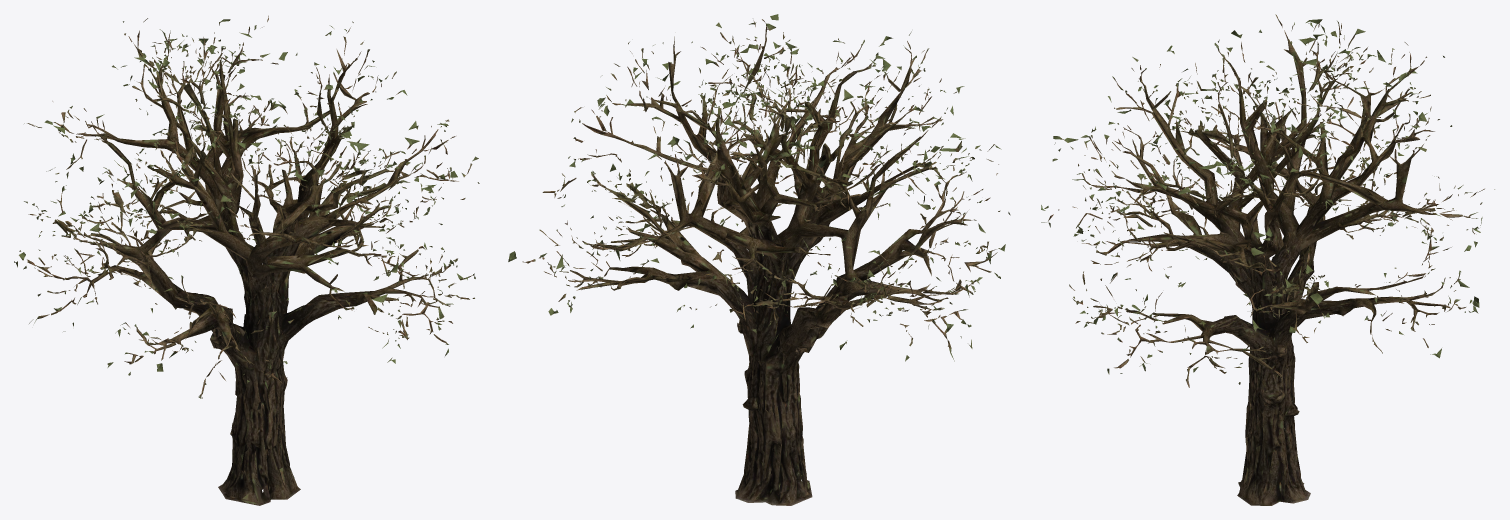
Rendered from tree_big.glb.
3 renders of one model, left to right at view 1: azimuth 30°, elevation 25°; view 2: azimuth 150°, elevation 25°; view 3: azimuth 270°, elevation 25°, orthographic. The views are drawn at different scales.
Parts seen in each view (by area): view 1: world; view 2: world; view 3: world.
Part boxes in pixels (x1,y1,x2,y2): world: [14, 15, 479, 505]; world: [508, 14, 1010, 505]; world: [1041, 14, 1494, 505].
Size of the model in its own units: 0.9448 by 0.9689 by 0.8966.
Materials: 1 (1 with a texture image).
